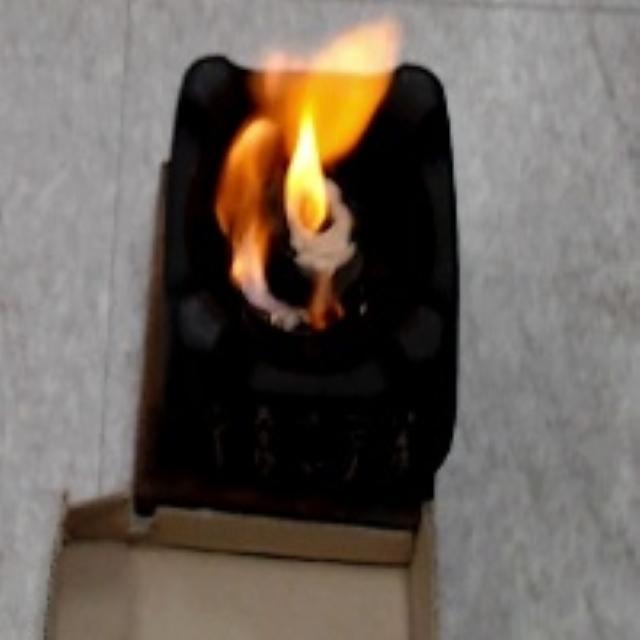Fire: (204, 9, 410, 333)
